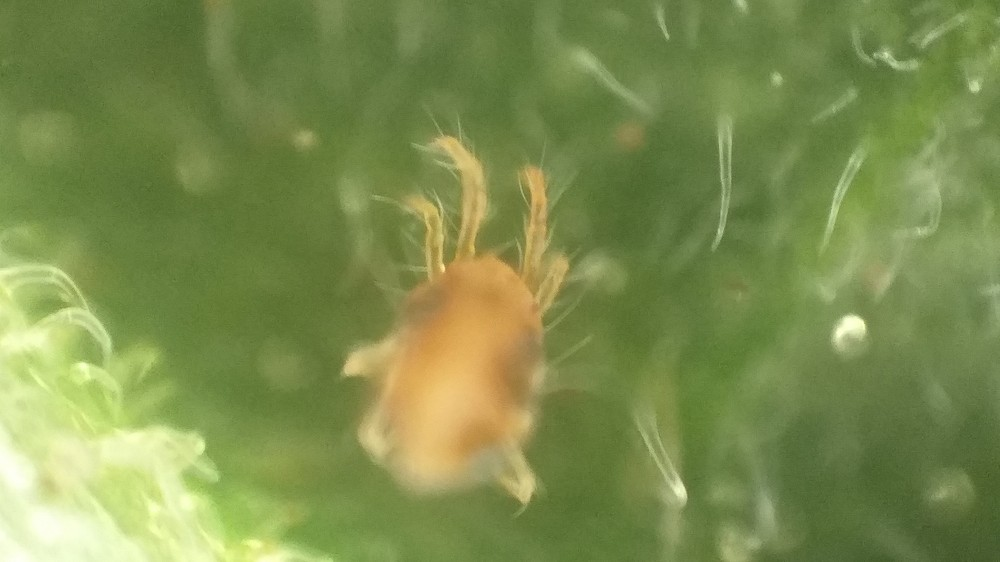Aracnido Rojo: (312, 125, 627, 532)
